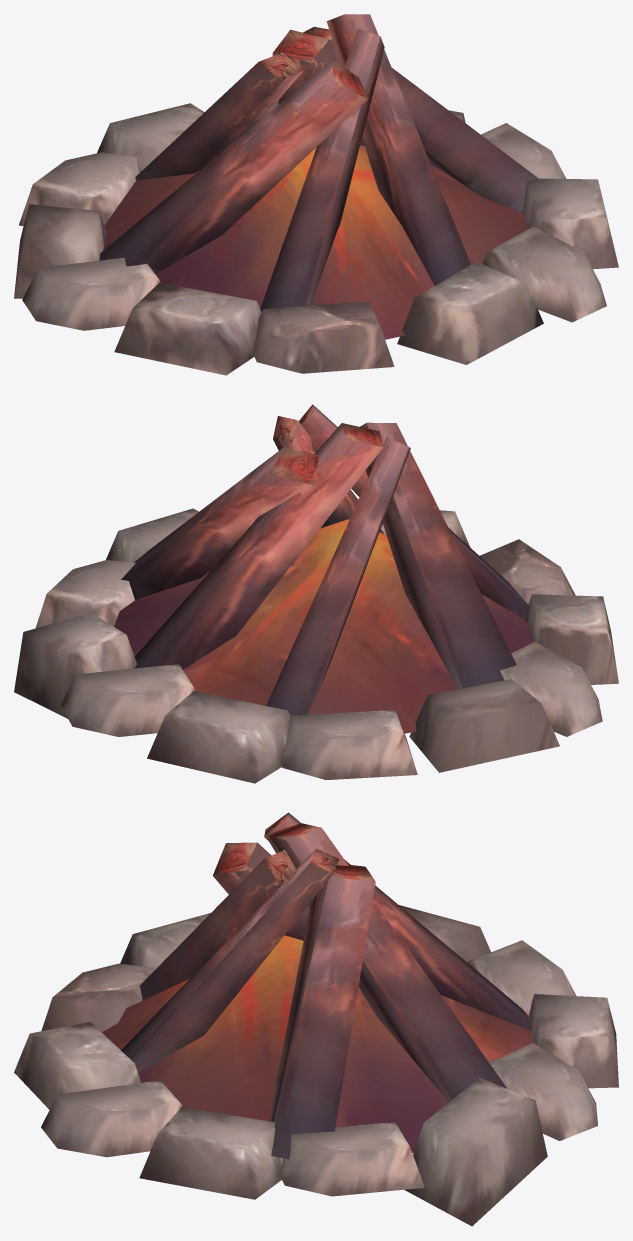
The model's file is SM_Fire_01.fbx.
3 views of the same model, one above another, from view 1: azimuth 30°, elevation 25°; view 2: azimuth 150°, elevation 25°; view 3: azimuth 270°, elevation 25° (orthographic). The views are drawn at different scales.
Visible parts, largest first — view 1: SM_Fire_01; view 2: SM_Fire_01; view 3: SM_Fire_01.
Part boxes in pixels (<box>): SM_Fire_01: <box>14,14,618,375</box>; SM_Fire_01: <box>14,404,618,783</box>; SM_Fire_01: <box>14,812,618,1226</box>.
Size of the model in its own units: 1.94 by 0.9271 by 1.85.
